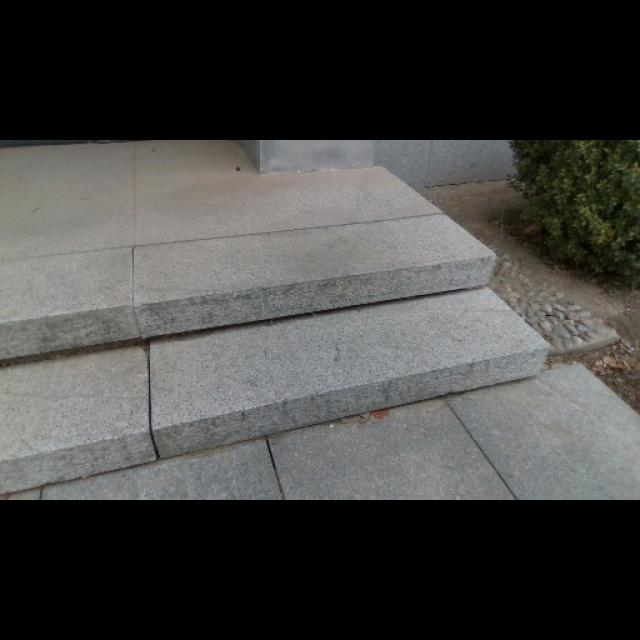Stairs: (0, 142, 554, 496)
